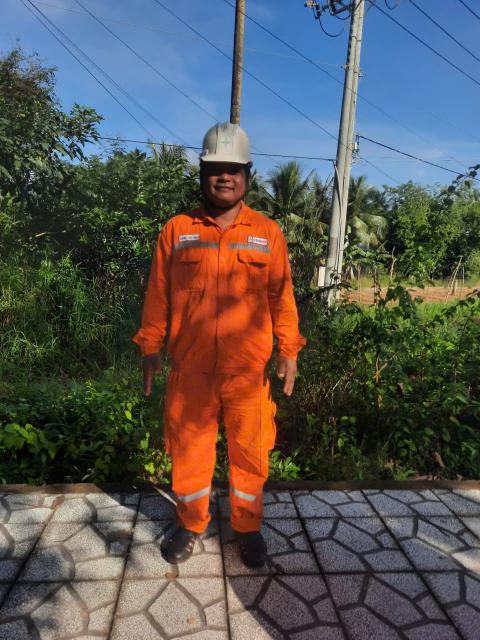helmet: (188, 107, 262, 176)
shoes: (225, 525, 283, 579), (151, 515, 205, 564)
